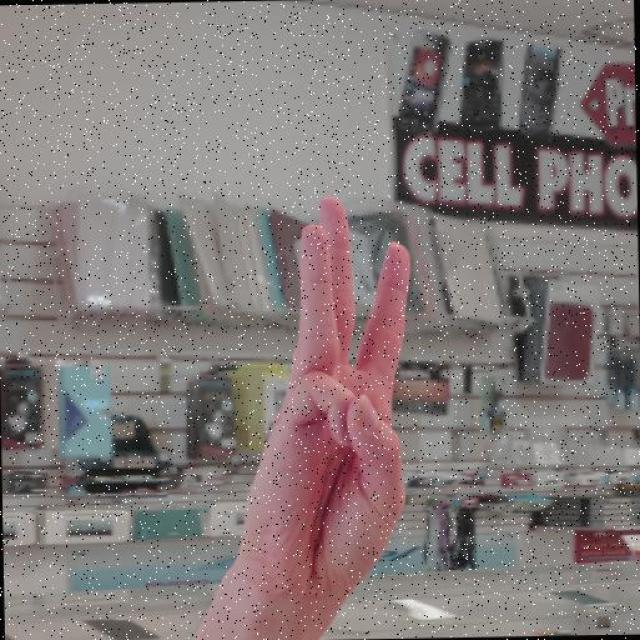W: (230, 190, 425, 596)
